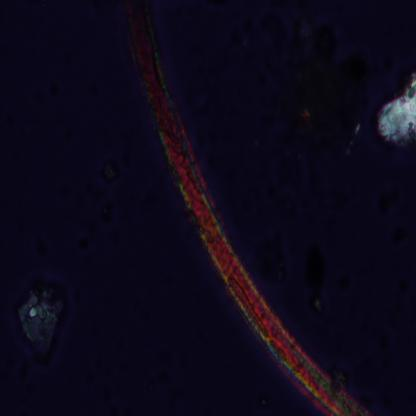Microfibre: (120, 1, 374, 415)
